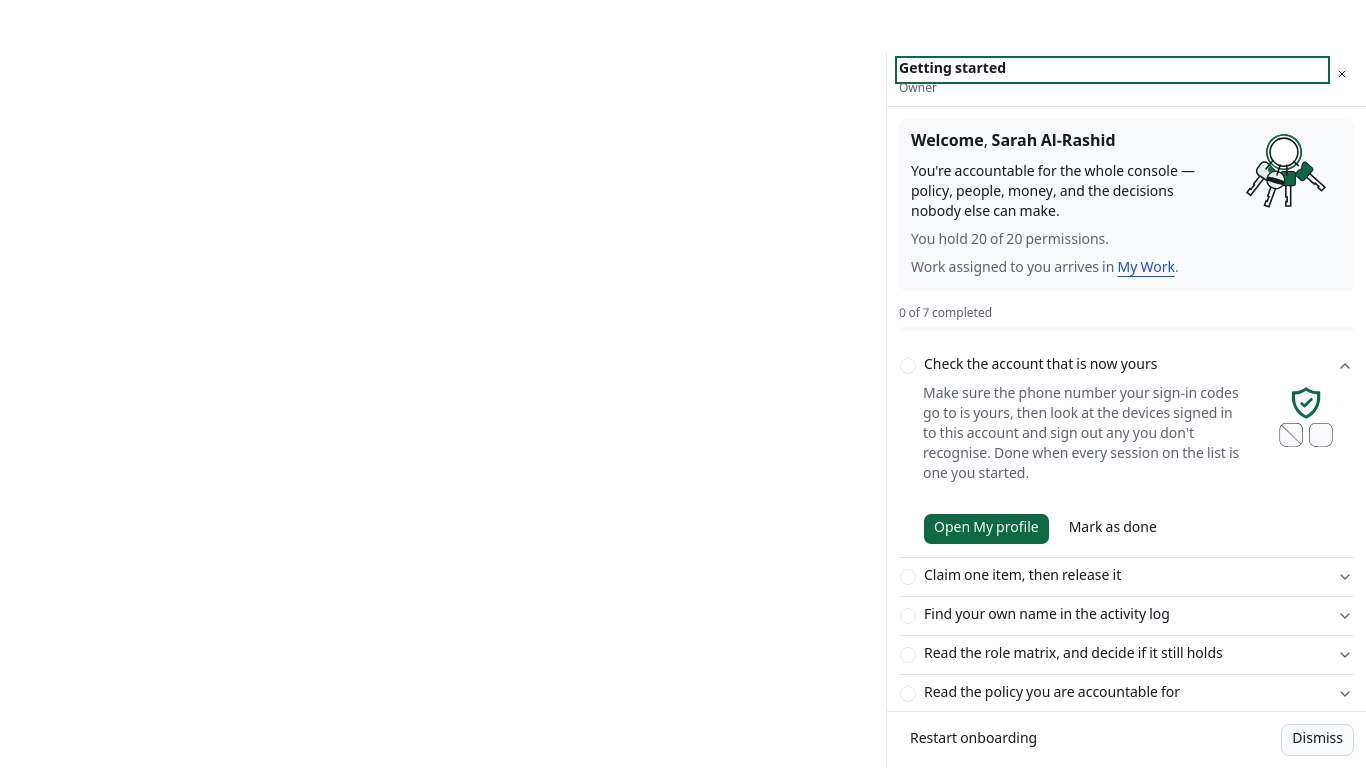
Test: AC-604 — "at most one step is expanded at a time" › collapses the first when a second is expanded
The image size is (1366, 768).
Click the button "Claim one item, then release it" at (1023, 577), box 899,558 -> 1354,596
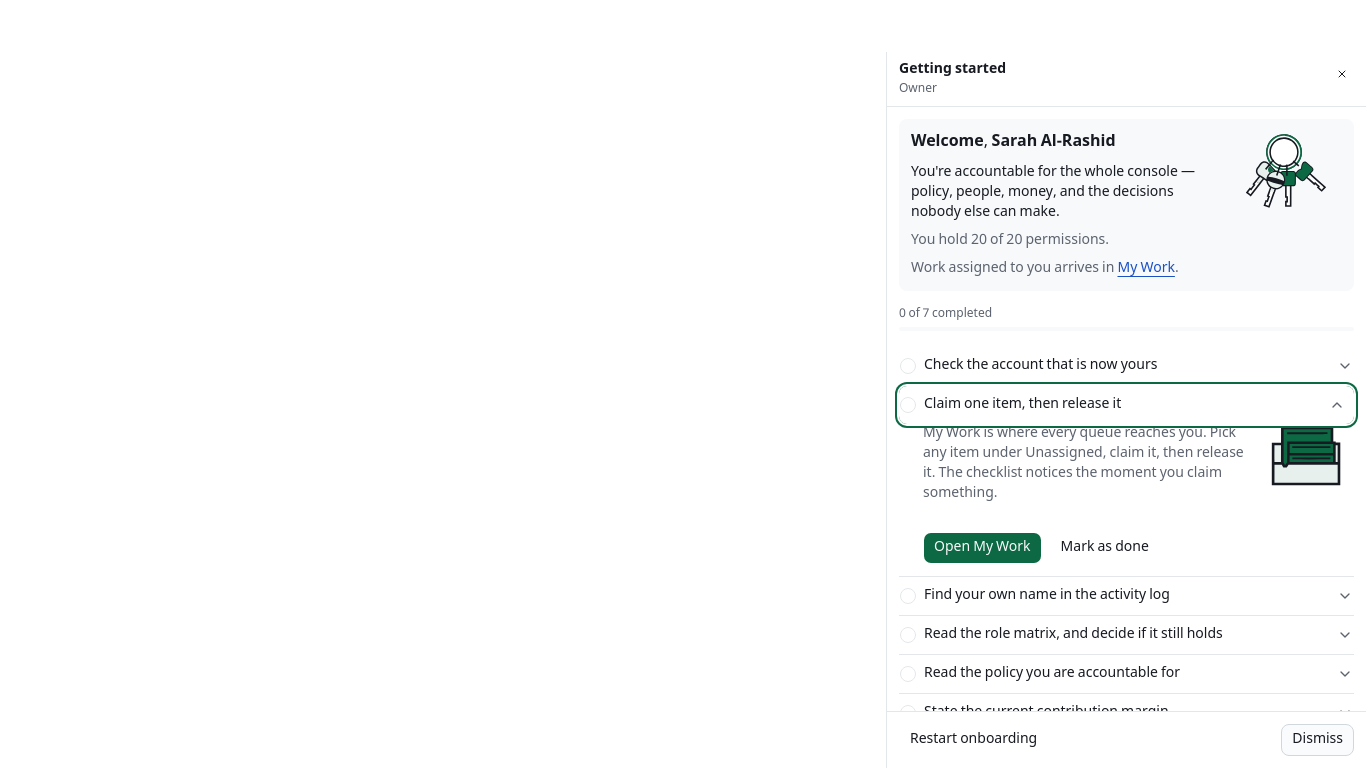
Expected: the button "Claim one item, then release it" is expanded, 899,386 -> 1354,424
Expected: the button "Check the account that is now yours" is collapsed, 899,347 -> 1354,385
